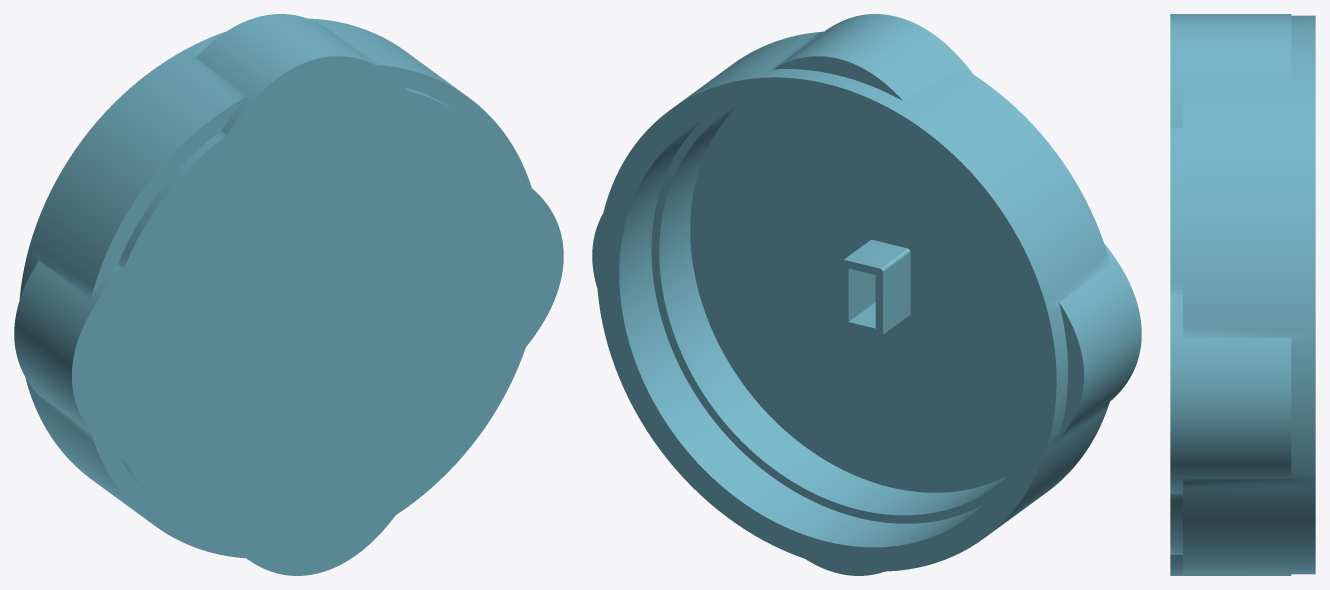
Rendered from Cap_four_leaf_clover.glb.
3 views of the same model, side by side, from view 1: azimuth 30°, elevation 25°; view 2: azimuth 150°, elevation 25°; view 3: azimuth 270°, elevation 25° (orthographic). The views are drawn at different scales.
Parts seen in each view (by area): view 1: Cap_four_leaf_clover_0; view 2: Cap_four_leaf_clover_0; view 3: Cap_four_leaf_clover_0.
Part boxes in pixels (x1,y1,x2,y2): Cap_four_leaf_clover_0: (14,14,563,575); Cap_four_leaf_clover_0: (592,14,1141,575); Cap_four_leaf_clover_0: (1170,14,1315,575).
Bounding box in the file's own units: 61.6 × 61.6 × 15.
